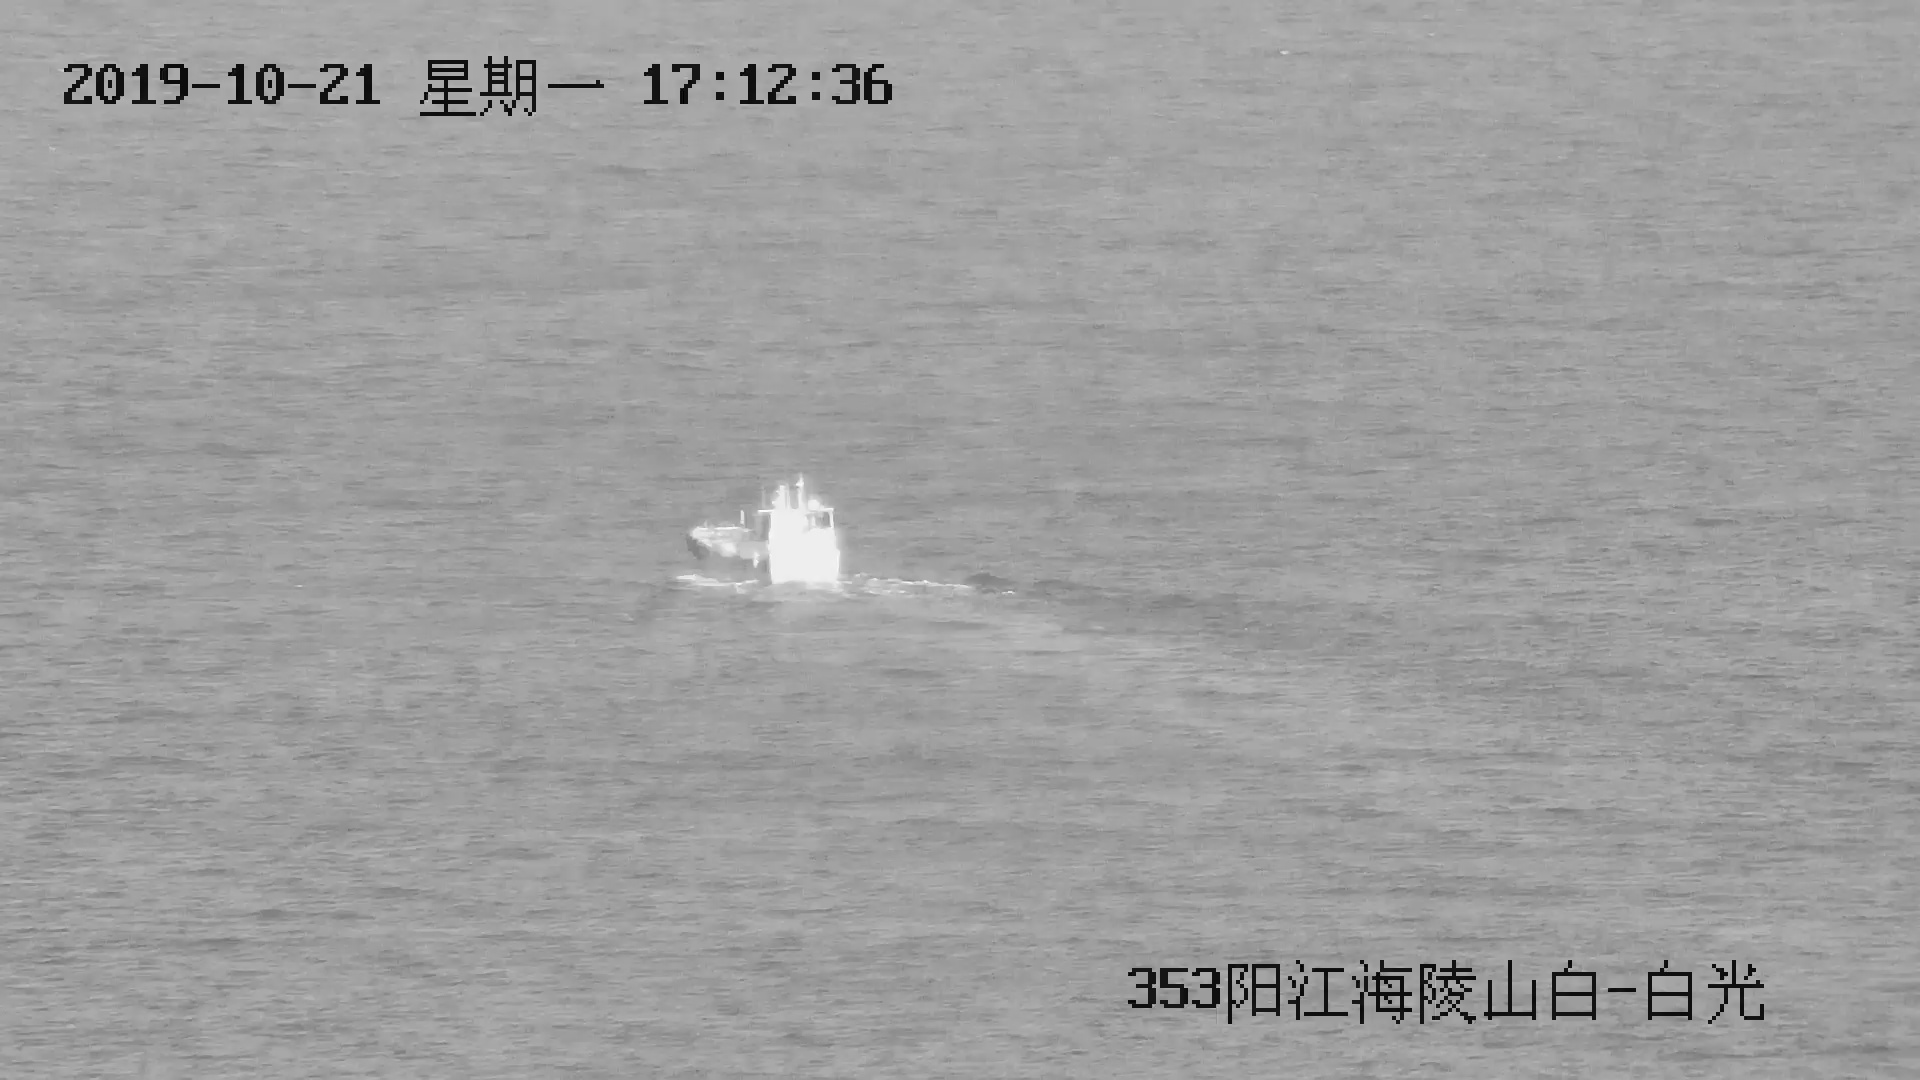ship: (675, 472, 861, 593)
